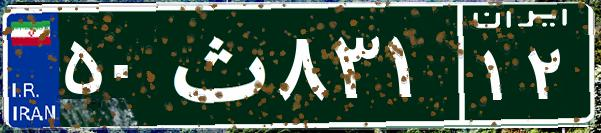0: (110, 28, 158, 105)
1: (385, 28, 445, 110), (475, 38, 525, 113)
2: (525, 38, 570, 115)
3: (330, 28, 385, 110)
5: (57, 26, 110, 107)
8: (273, 28, 330, 110)
ث: (158, 15, 273, 115)
